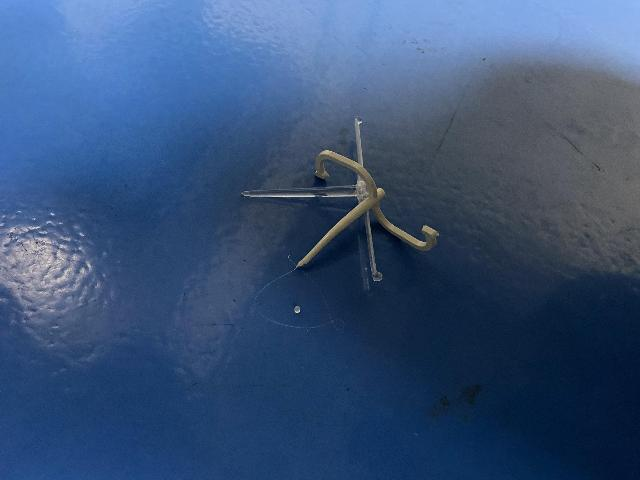Plastik: (238, 114, 441, 289)
